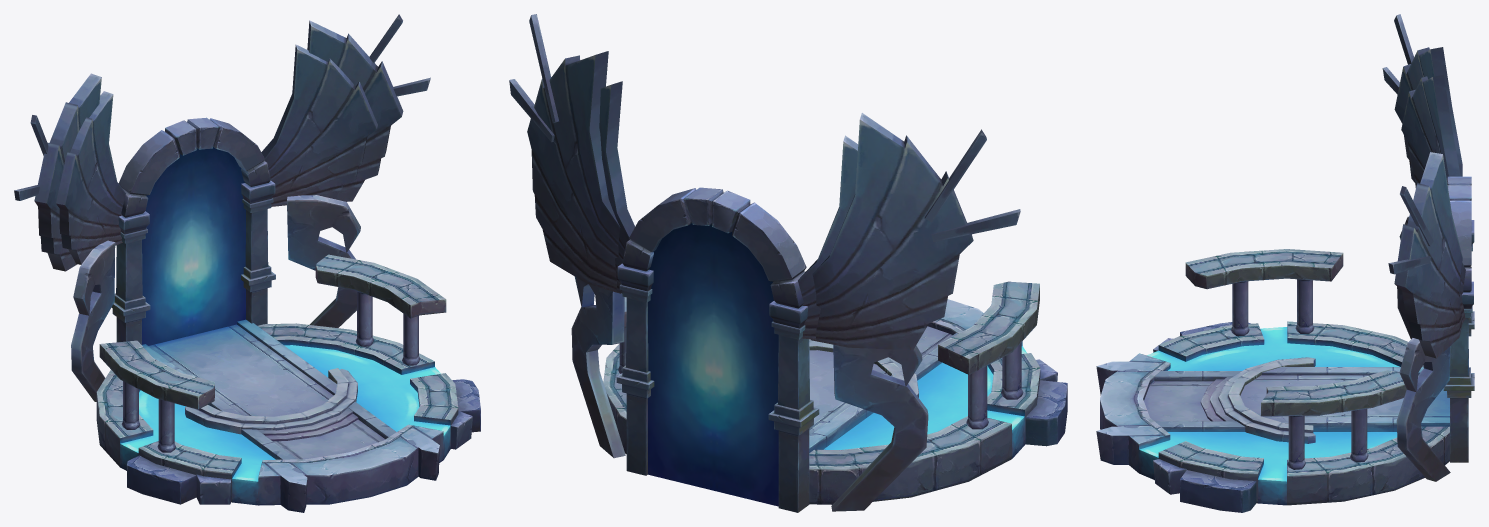
Rendered from gonghui_shuichi_01 #61160.fbx.
The picture shows the model from 3 angles, left to right: view 1: azimuth 30°, elevation 25°; view 2: azimuth 150°, elevation 25°; view 3: azimuth 270°, elevation 25°; orthographic projection. The views are drawn at different scales.
Parts seen in each view (by area): view 1: gonghui_shuichi_01; view 2: gonghui_shuichi_01; view 3: gonghui_shuichi_01.
Boxes of the visible parts, x1,y1,x2,y2 form: gonghui_shuichi_01: [14, 14, 480, 512]; gonghui_shuichi_01: [509, 14, 1067, 512]; gonghui_shuichi_01: [1096, 14, 1474, 512].
Size of the model in its own units: 12.08 by 9.02 by 9.37.
